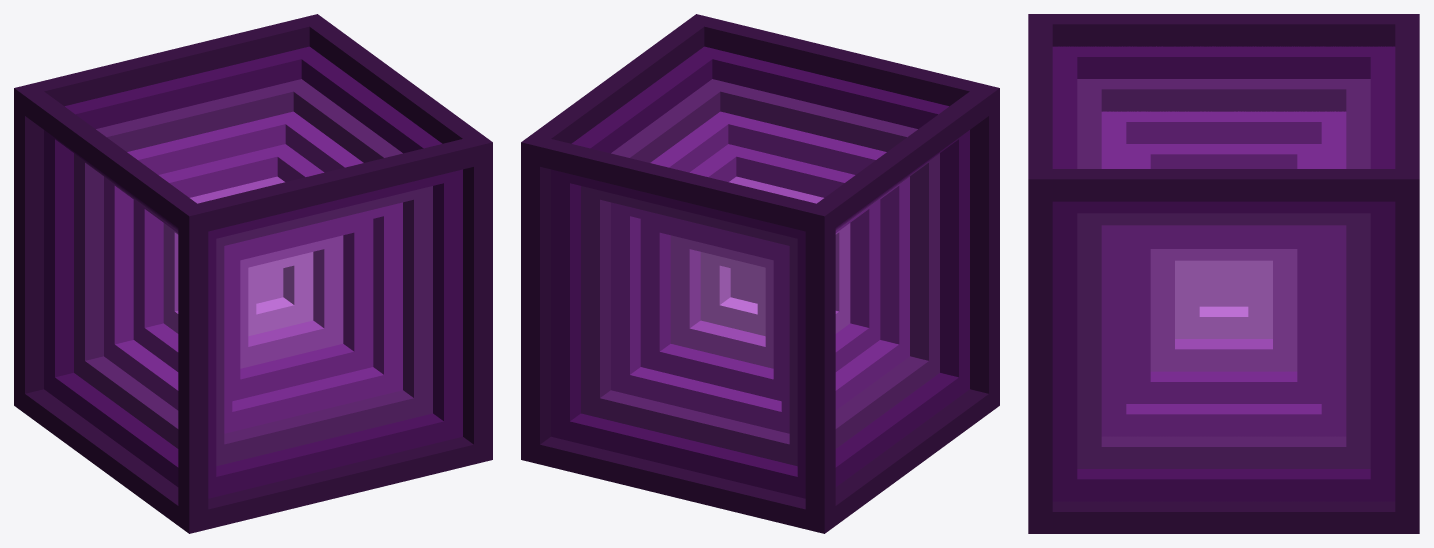
File: cubes_01.gltf
3 views of the same model, side by side, from view 1: azimuth 30°, elevation 25°; view 2: azimuth 150°, elevation 25°; view 3: azimuth 270°, elevation 25° (orthographic). The views are drawn at different scales.
Visible parts, largest first — view 1: cubes_01-Mesh; view 2: cubes_01-Mesh; view 3: cubes_01-Mesh.
Part boxes in pixels (x1,y1,x2,y2): cubes_01-Mesh: [14, 14, 492, 533]; cubes_01-Mesh: [521, 14, 999, 533]; cubes_01-Mesh: [1028, 14, 1419, 533].
Bounding box in the file's own units: 32 × 32 × 32.
1 material, 1 textured.
